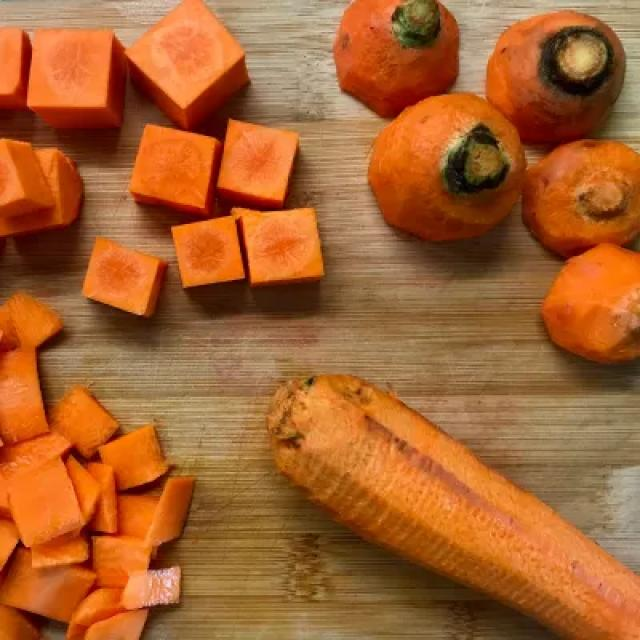organic: (270, 372, 640, 640), (367, 92, 525, 244), (482, 8, 628, 143), (127, 120, 300, 217), (123, 0, 249, 133), (332, 0, 461, 117), (520, 140, 638, 261), (0, 30, 128, 132), (540, 244, 640, 367), (169, 208, 324, 287), (0, 137, 85, 237), (0, 452, 90, 546), (78, 235, 167, 317), (0, 552, 96, 624), (95, 423, 172, 493), (0, 345, 51, 445), (48, 387, 119, 455), (0, 284, 66, 351), (142, 472, 190, 548), (117, 567, 183, 612)
